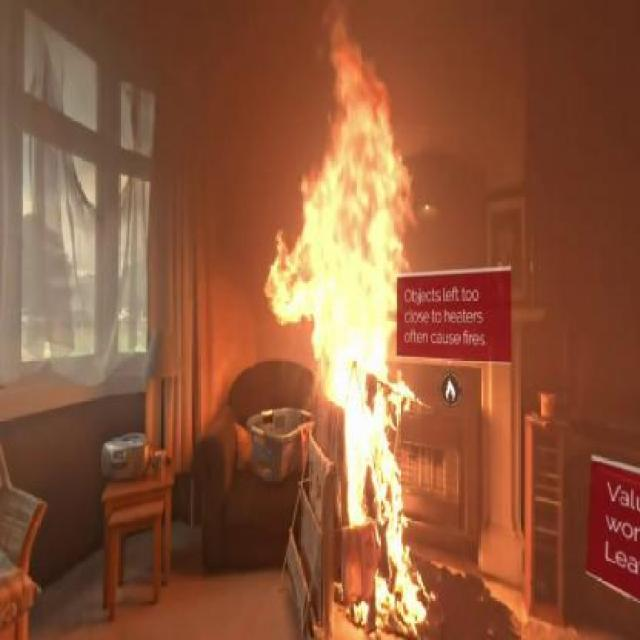fire: (303, 155, 403, 500)
smoke: (410, 0, 546, 212), (170, 1, 298, 226)
